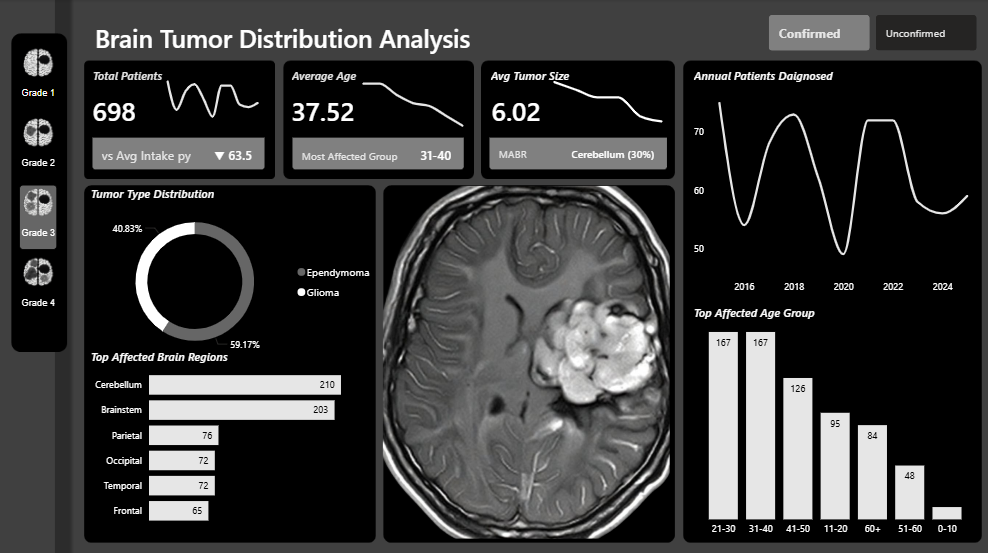

The page's visual inventory and layout, read from the dashboard file:
{"tool":"powerbi","page":{"name":"Page 1","canvas":[1280,720],"ordinal":0},"visuals":[{"type":"cardVisual","fields":{"Data":["Count(Brain Tumor Data.Patient ID)"]},"box":[92.1,96.4,137.5,89.3],"z":0},{"type":"lineChart","fields":{"Category":["Brain Tumor Data.Date of Diagnosis.Variation.Date Hierarchy.Year"],"Y":["CountNonNull(Brain Tumor Data.Patient ID)"]},"box":[202.7,83.6,146,89.3],"z":1000},{"type":"cardVisual","fields":{"Data":["Count(Brain Tumor Data.Patient ID)"]},"box":[92.1,83.6,280.6,165.8],"z":2000},{"type":"textbox","box":[116.2,83.6,113.4,45.4],"z":3000},{"type":"cardVisual","fields":{"Data":["Avg(Brain Tumor Data.Age)"]},"box":[348.7,96.4,151.7,89.3],"z":4000},{"type":"lineChart","fields":{"Y":["CountNonNull(Brain Tumor Data.Patient ID)"],"Category":["Brain Tumor Data.Age Group"]},"box":[456.4,83.6,154.5,89.3],"z":5000},{"type":"cardVisual","fields":{"Data":["Count(Brain Tumor Data.Patient ID)"]},"box":[350.1,83.6,279.2,165.8],"z":6000},{"type":"textbox","box":[372.8,83.6,113.4,45.4],"z":7000},{"type":"textbox","box":[629.3,83.6,113.4,45.4],"z":8000},{"type":"cardVisual","fields":{"Data":["Count(Brain Tumor Data.Patient ID)"]},"box":[603.8,83.6,287.7,165.8],"z":9000},{"type":"cardVisual","fields":{"Data":["Avg(Brain Tumor Data.Tumor Size (cm))"]},"box":[606.6,96.4,141.7,89.3],"z":10000},{"type":"lineChart","fields":{"Y":["Avg(Brain Tumor Data.Tumor Size (cm))"],"Category":["Brain Tumor Data.Affected Brain Region"]},"box":[700.2,83.6,170.1,89.3],"z":11000},{"type":"advancedSlicerVisual","fields":{"Values":["Brain Tumor Data.Histology Confirmation"]},"box":[987.9,15.6,279.2,56.7],"z":12000},{"type":"ChicletSlicer1448559807354","fields":{"Category":["Tumor Images.Tumor Grade"],"Image":["Tumor Images.Icon URL"]},"box":[18.4,51,73.7,395.4],"z":13000},{"type":"imageDB603108E3FF4EBFB8047F5653368E8C","fields":{"imageUrl":["Tumor Images.Image URL"]},"box":[490.4,236.7,379.8,464.9],"z":14000},{"type":"donutChart","fields":{"Category":["Brain Tumor Data.Tumor Type"],"Y":["CountNonNull(Brain Tumor Data.Patient ID)"]},"box":[116.2,249.4,377,231],"z":15000},{"type":"textbox","box":[113.4,236.7,177.2,45.4],"z":16000},{"type":"clusteredBarChart","fields":{"Category":["Brain Tumor Data.Affected Brain Region"],"Y":["CountNonNull(Brain Tumor Data.Patient ID)"]},"box":[113.4,459.2,367.1,232.4],"z":17000},{"type":"textbox","box":[113.4,446.5,205.5,45.4],"z":18000},{"type":"lineChart","fields":{"Y":["CountNonNull(Brain Tumor Data.Patient ID)"],"Category":["Brain Tumor Data.Date of Diagnosis.Variation.Date Hierarchy.Year"]},"box":[891.5,120.5,375.6,269.3],"z":19000},{"type":"textbox","box":[891.5,83.6,205.5,36.9],"z":20000},{"type":"clusteredColumnChart","fields":{"Category":["Brain Tumor Data.Age Group"],"Y":["CountNonNull(Brain Tumor Data.Patient ID)"]},"box":[891.5,389.8,375.6,311.8],"z":21000},{"type":"textbox","box":[891.5,389.8,188.5,39.7],"z":22000},{"type":"textbox","box":[119.1,22.7,521.6,60.9],"z":22001}]}

Visuals, with their boxes in screenshot pixels (x1, y1, x2, y2), scaled from the page's 1280x720 canvas onto the 988x553 screenshot:
cardVisual - Count(Brain Tumor Data.Patient ID): (71,74,177,143)
lineChart - Brain Tumor Data.Date of Diagnosis.Variation.Date Hierarchy.Year x CountNonNull(Brain Tumor Data.Patient ID): (156,64,269,133)
cardVisual - Count(Brain Tumor Data.Patient ID): (71,64,288,192)
textbox: (90,64,177,99)
cardVisual - Avg(Brain Tumor Data.Age): (269,74,386,143)
lineChart - CountNonNull(Brain Tumor Data.Patient ID) x Brain Tumor Data.Age Group: (352,64,472,133)
cardVisual - Count(Brain Tumor Data.Patient ID): (270,64,486,192)
textbox: (288,64,375,99)
textbox: (486,64,573,99)
cardVisual - Count(Brain Tumor Data.Patient ID): (466,64,688,192)
cardVisual - Avg(Brain Tumor Data.Tumor Size (cm)): (468,74,578,143)
lineChart - Avg(Brain Tumor Data.Tumor Size (cm)) x Brain Tumor Data.Affected Brain Region: (540,64,672,133)
advancedSlicerVisual - Brain Tumor Data.Histology Confirmation: (763,12,978,56)
ChicletSlicer1448559807354 - Tumor Images.Tumor Grade x Tumor Images.Icon URL: (14,39,71,343)
imageDB603108E3FF4EBFB8047F5653368E8C - Tumor Images.Image URL: (379,182,672,539)
donutChart - Brain Tumor Data.Tumor Type x CountNonNull(Brain Tumor Data.Patient ID): (90,192,381,369)
textbox: (88,182,224,217)
clusteredBarChart - Brain Tumor Data.Affected Brain Region x CountNonNull(Brain Tumor Data.Patient ID): (88,353,371,531)
textbox: (88,343,246,378)
lineChart - CountNonNull(Brain Tumor Data.Patient ID) x Brain Tumor Data.Date of Diagnosis.Variation.Date Hierarchy.Year: (688,93,978,299)
textbox: (688,64,847,93)
clusteredColumnChart - Brain Tumor Data.Age Group x CountNonNull(Brain Tumor Data.Patient ID): (688,299,978,539)
textbox: (688,299,834,330)
textbox: (92,17,495,64)
